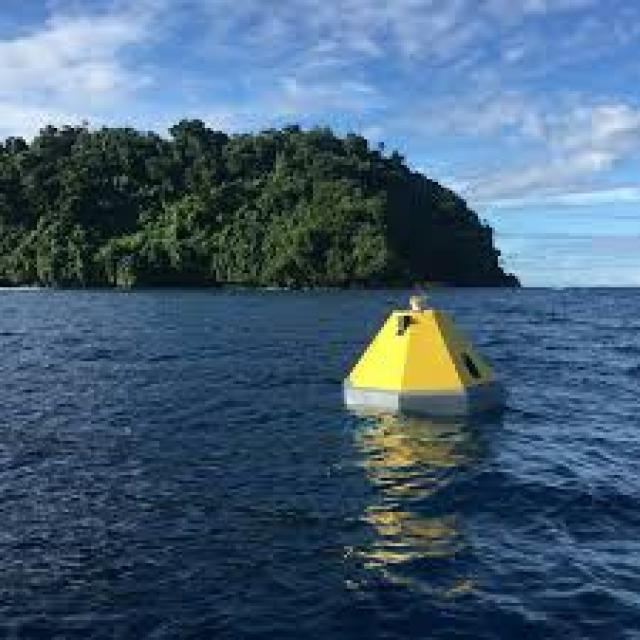2.5 sepcial mark: (344, 282, 523, 446)
